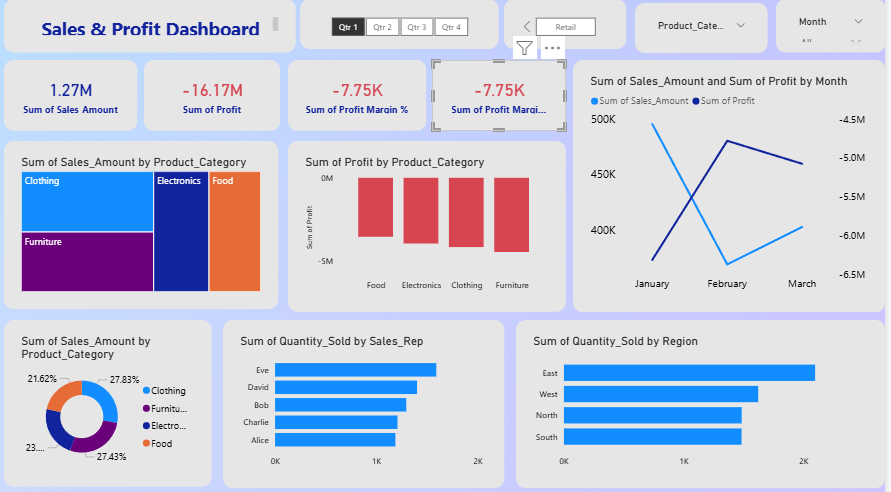

The dashboard page shown, as its layout file describes it:
{"tool":"powerbi","page":{"name":"Page 1","canvas":[1280,720],"ordinal":0},"visuals":[{"type":"lineChart","fields":{"Category":["sales_data.Sale_Date.Variation.Date Hierarchy.Month"],"Y":["Sum(sales_data.Sales_Amount)"],"Y2":["Sum(sales_data.Profit)"]},"box":[829.8,92.4,450.2,362.8],"z":0},{"type":"clusteredBarChart","fields":{"Category":["sales_data.Region"],"Y":["Sum(sales_data.Quantity_Sold)"]},"box":[747.5,467,532.5,241.9],"z":1000},{"type":"clusteredBarChart","fields":{"Category":["sales_data.Sales_Rep"],"Y":["Sum(sales_data.Quantity_Sold)"]},"box":[325.9,467,404.8,241.9],"z":2000},{"type":"donutChart","fields":{"Category":["sales_data.Product_Category"],"Y":["Sum(sales_data.Sales_Amount)"]},"box":[10.1,467,299,240.2],"z":3000},{"type":"clusteredColumnChart","fields":{"Category":["sales_data.Product_Category"],"Y":["Sum(sales_data.Profit)"]},"box":[419,208.8,400.3,246.2],"z":4000},{"type":"textbox","box":[10.1,5,419.9,77.3],"z":5000},{"type":"card","fields":{"Values":["Sum(sales_data.Sales_Amount)"]},"box":[10.1,92.2,191.5,102.2],"z":6000},{"type":"card","fields":{"Values":["Sum(sales_data.Profit)"]},"box":[211.7,92.2,195.8,102.2],"z":7000},{"type":"card","fields":{"Values":["Sum(sales_data.Profit Margin %)"]},"box":[419,92.2,198.7,102.2],"z":8000},{"type":"card","fields":{"Values":["Sum(sales_data.Profit Margin %)"]},"box":[626.4,92.2,193,102.2],"z":9000},{"type":"slicer","fields":{"Values":["sales_data.Sale_Date.Variation.Date Hierarchy.Quarter"]},"box":[436.7,5,285.6,72.2],"z":10000},{"type":"slicer","fields":{"Values":["sales_data.Sale_Date.Variation.Date Hierarchy.Month"]},"box":[1122.1,5,157.9,77.3],"z":11000},{"type":"slicer","fields":{"Values":["sales_data.Product_Category"]},"box":[918.8,10.1,191.5,72.2],"z":11001},{"type":"slicer","fields":{"Values":["sales_data.Sales_Channel"]},"box":[730.7,5,176.4,72.2],"z":11002},{"type":"treemap","fields":{"Group":["sales_data.Product_Category"],"Values":["Sum(sales_data.Sales_Amount)"]},"box":[10.1,208.3,394.8,241.9],"z":11003}]}

Visuals, with their boxes in screenshot pixels (x1, y1, x2, y2), scaled from the page's 1280x720 canvas onto the 891x492 screenshot:
lineChart - sales_data.Sale_Date.Variation.Date Hierarchy.Month x Sum(sales_data.Sales_Amount): (578, 63, 890, 311)
clusteredBarChart - sales_data.Region x Sum(sales_data.Quantity_Sold): (520, 319, 890, 484)
clusteredBarChart - sales_data.Sales_Rep x Sum(sales_data.Quantity_Sold): (227, 319, 509, 484)
donutChart - sales_data.Product_Category x Sum(sales_data.Sales_Amount): (7, 319, 215, 483)
clusteredColumnChart - sales_data.Product_Category x Sum(sales_data.Profit): (292, 143, 570, 311)
textbox: (7, 3, 299, 56)
card - Sum(sales_data.Sales_Amount): (7, 63, 140, 133)
card - Sum(sales_data.Profit): (147, 63, 284, 133)
card - Sum(sales_data.Profit Margin %): (292, 63, 430, 133)
card - Sum(sales_data.Profit Margin %): (436, 63, 570, 133)
slicer - sales_data.Sale_Date.Variation.Date Hierarchy.Quarter: (304, 3, 503, 53)
slicer - sales_data.Sale_Date.Variation.Date Hierarchy.Month: (781, 3, 890, 56)
slicer - sales_data.Product_Category: (640, 7, 773, 56)
slicer - sales_data.Sales_Channel: (509, 3, 631, 53)
treemap - sales_data.Product_Category x Sum(sales_data.Sales_Amount): (7, 142, 282, 308)
